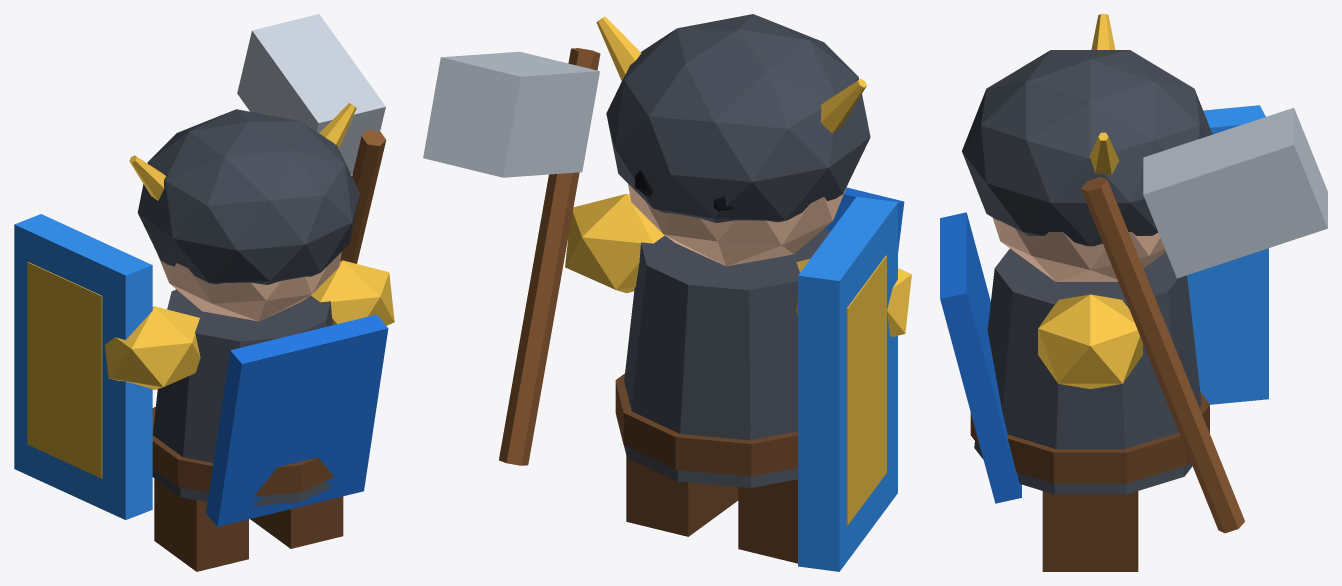
The model's file is unit-heavy.glb.
3 renders of one model, left to right at view 1: azimuth 30°, elevation 25°; view 2: azimuth 150°, elevation 25°; view 3: azimuth 270°, elevation 25°, orthographic. The views are drawn at different scales.
Parts seen in each view (by area): view 1: Unit_Heavy; view 2: Unit_Heavy; view 3: Unit_Heavy.
Boxes of the visible parts, x1,y1,x2,y2 form: Unit_Heavy: (14, 14, 394, 571); Unit_Heavy: (423, 14, 911, 571); Unit_Heavy: (940, 14, 1327, 571).
Bounding box in the file's own units: 1.62 × 2.02 × 1.5.
